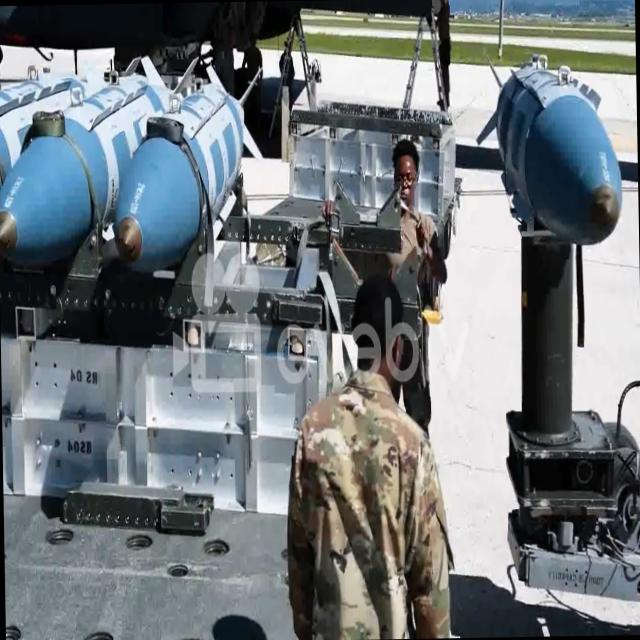rocket: (0, 62, 250, 280), (482, 43, 619, 260)
